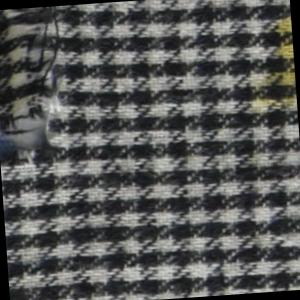Damage: (1, 6, 83, 166)
Stain: (248, 11, 298, 113)
